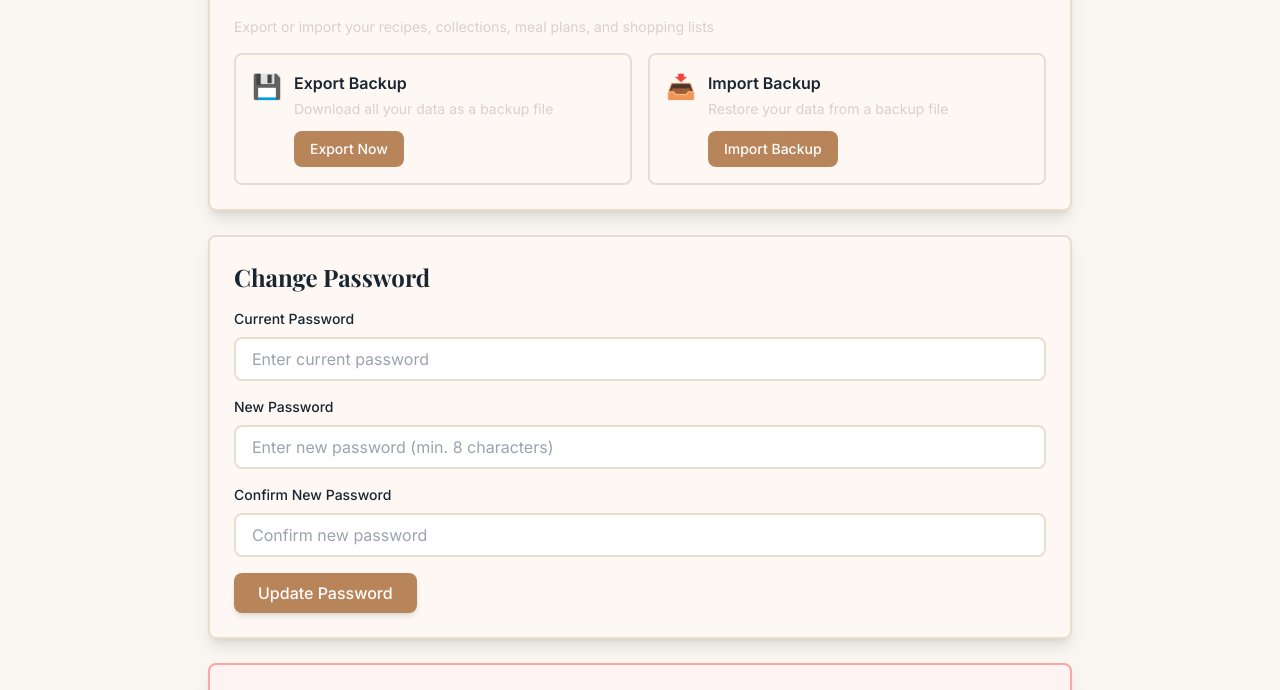
it: AccountSettingsPage › validates password match
(page scrolled)
Type "oldpass123" into the password field labelled "Current Password" at (640, 359), box [234,337,1046,381]
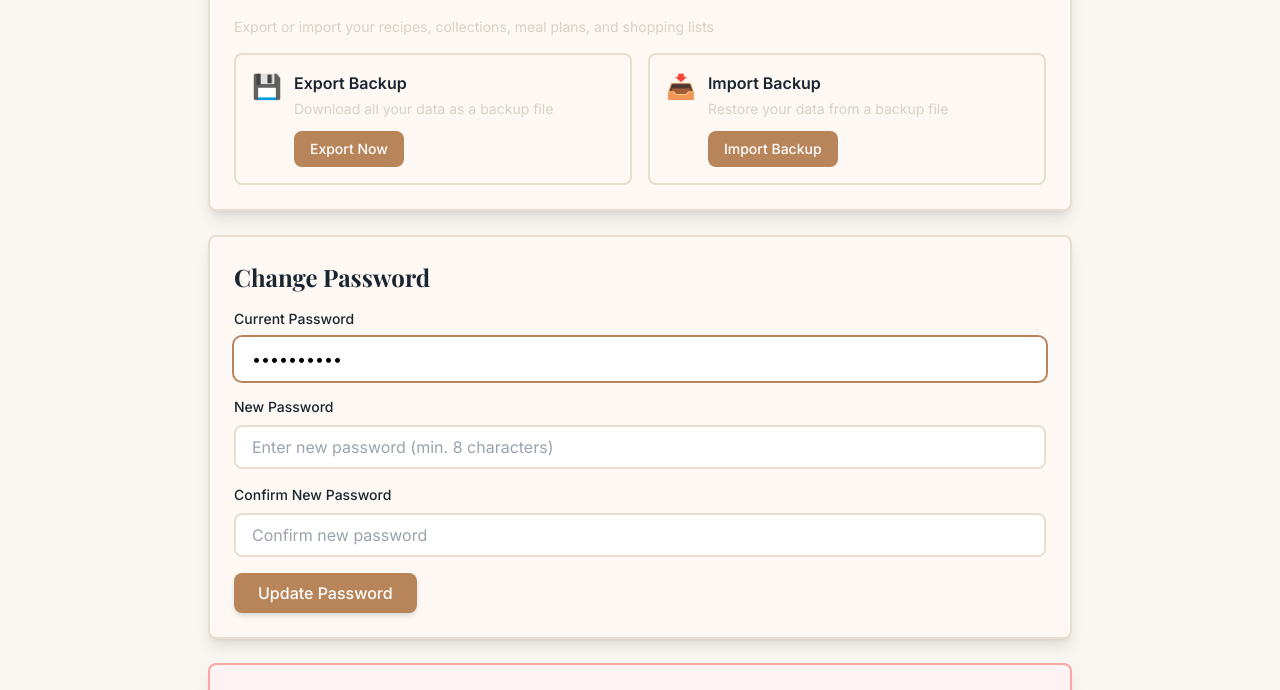
Type "newpass123" into the password field labelled "New Password" at (640, 447), box [234,425,1046,469]
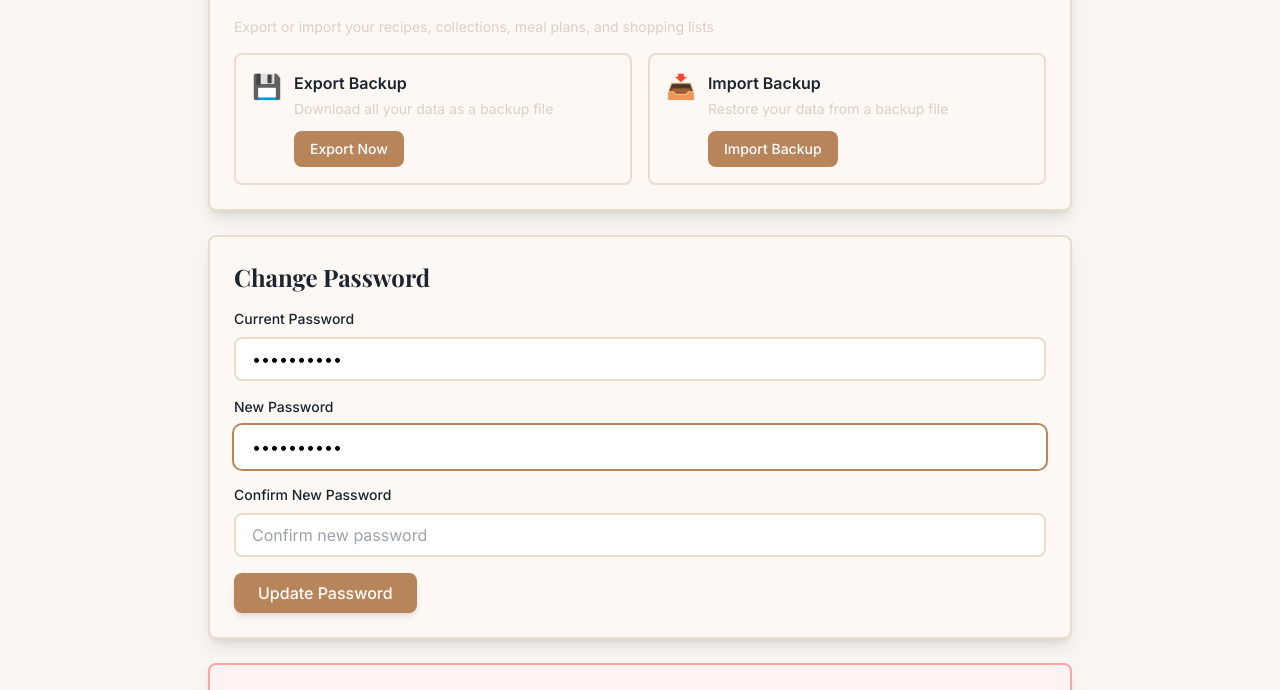
Type "different123" into the password field labelled "Confirm New Password" at (640, 535), box [234,513,1046,557]
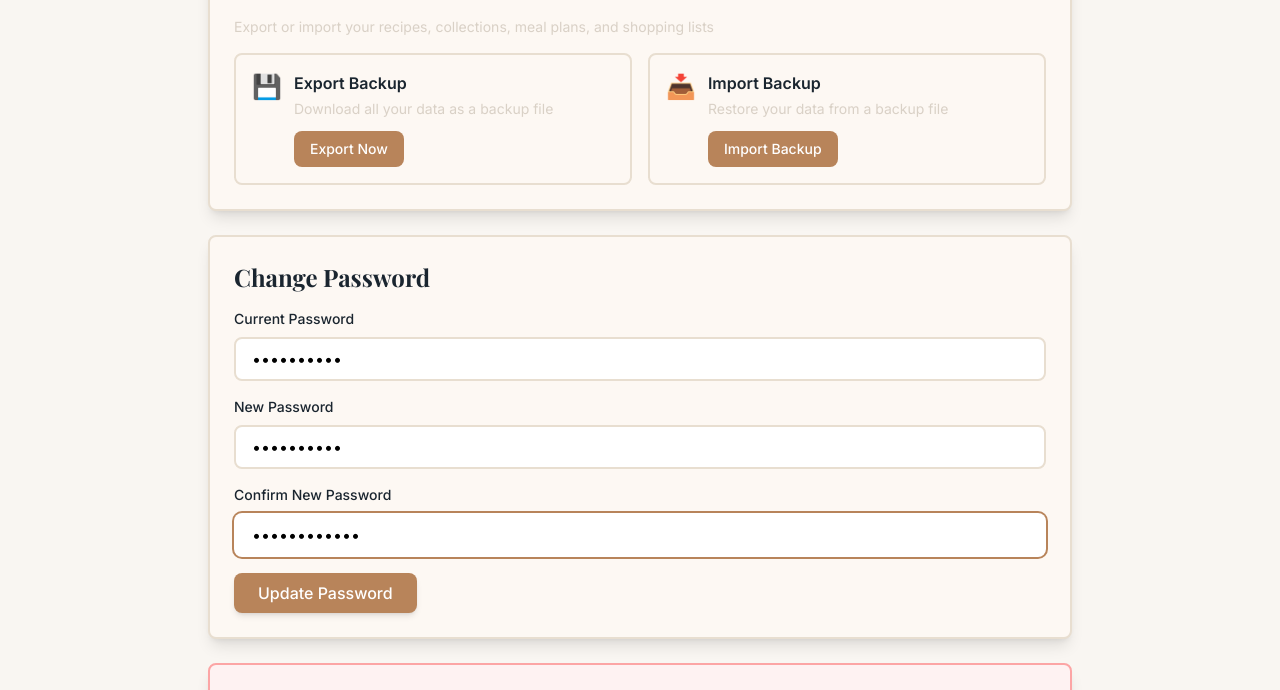
Click the button "Update Password" at (325, 593), box [234,573,417,613]
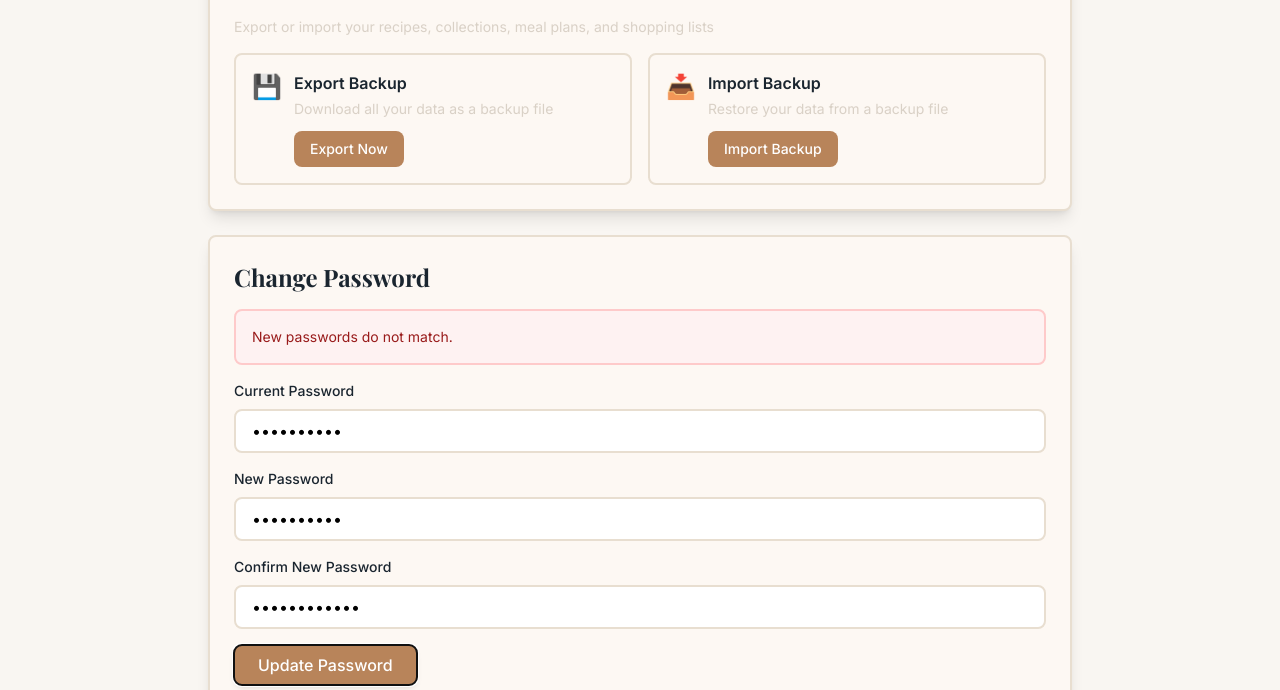
Expected: the text "New passwords do not match." is shown, [252,328,453,345]
